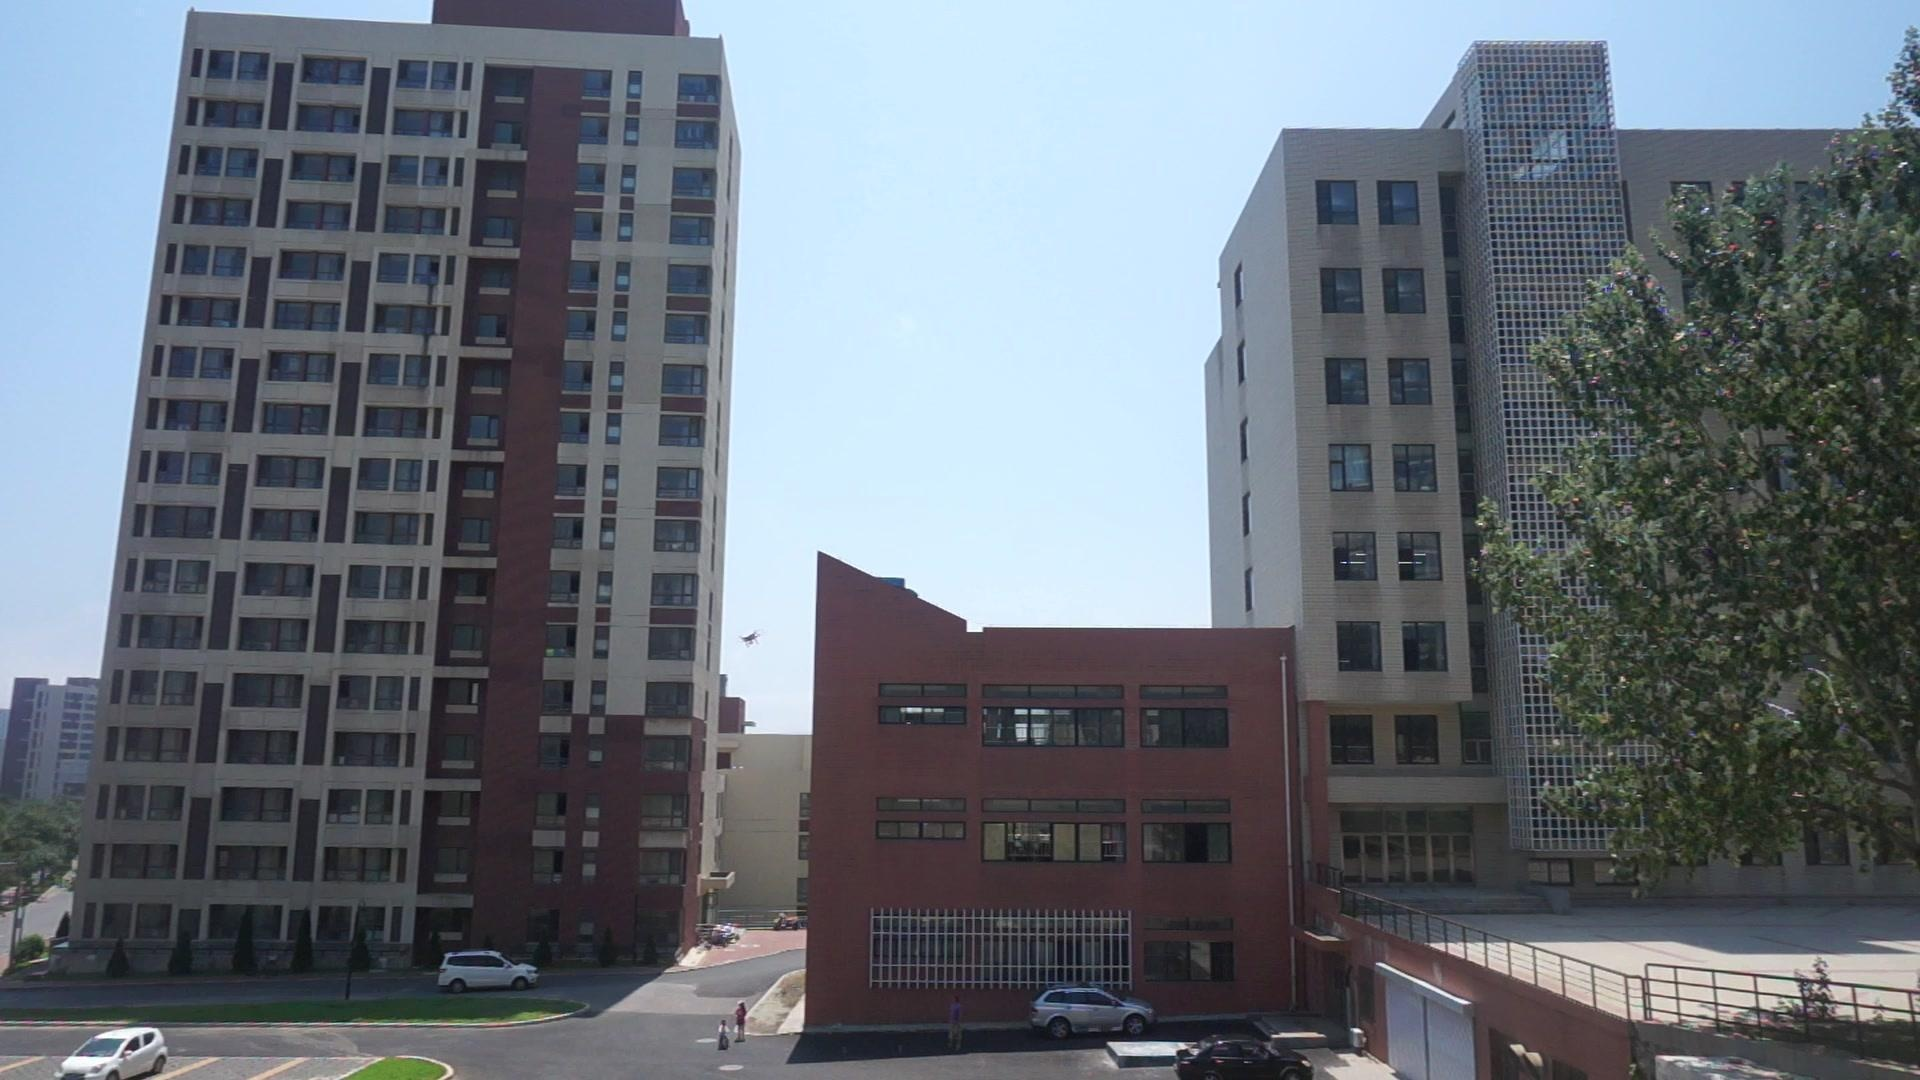UAV: (737, 632, 767, 649)
